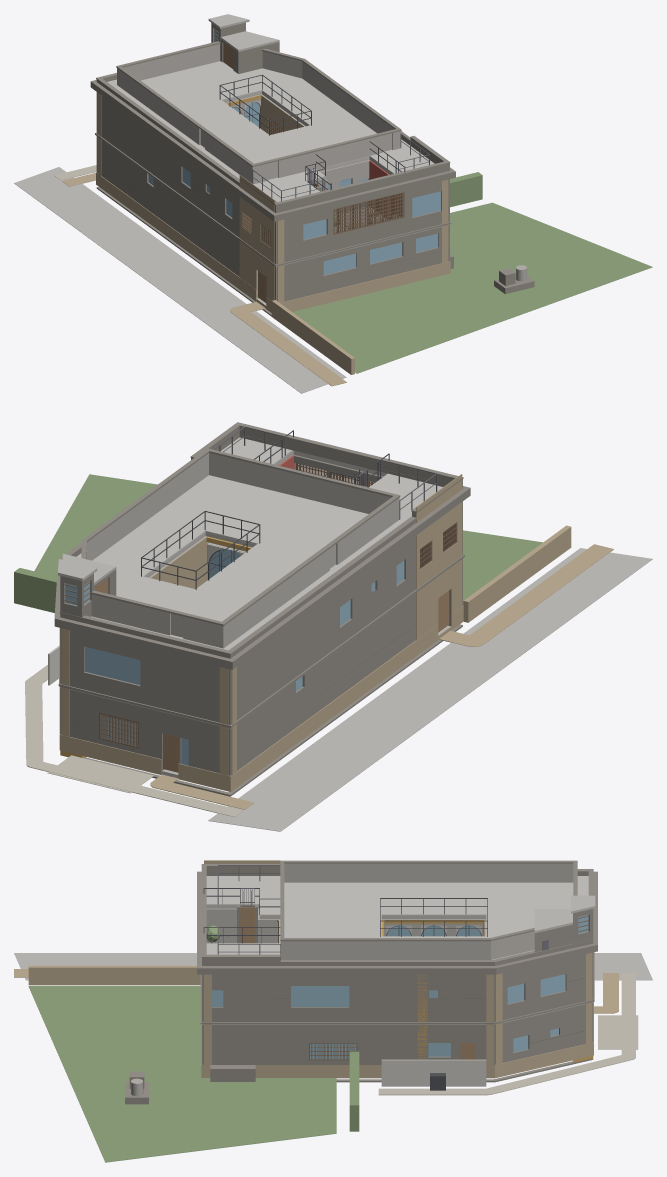
The model's file is taif_house_V8.2.glb.
3 views of the same model, one above another, from view 1: azimuth 30°, elevation 25°; view 2: azimuth 150°, elevation 25°; view 3: azimuth 270°, elevation 25° (orthographic). The views are drawn at different scales.
Visible parts, largest first — view 1: chr_site_foliage_garden, roof_finish_floor, chr_site_concrete_driveway, roof_attic_wall, gf_outer, ff_outer, chr_base_stone_plinth, roof_cornice, chr_base_stone_feature_wall_00, roof_attic_coping, chr_base_timber_court_screen, chr_site_stone_path_guest (+18 smaller); view 2: roof_finish_floor, chr_site_concrete_driveway, ff_outer, roof_attic_wall, gf_outer, chr_site_foliage_garden, chr_base_stone_plinth, roof_cornice, chr_base_stone_feature_wall_00, chr_site_stone_light_path_workers, roof_attic_coping, chr_base_stone_quoins (+20 smaller); view 3: chr_site_foliage_garden, roof_finish_floor, ff_outer, roof_attic_wall, gf_outer, roof_cornice, chr_site_concrete_driveway, chr_site_stone_garden_wall, chr_base_stone_plinth, chr_site_stone_light_path_workers, chr_base_stone_quoins, roof_attic_coping (+27 smaller).
Boxes of the visible parts, x1=… form: chr_site_foliage_garden: x1=292, y1=202, x2=652, y2=373; roof_finish_floor: x1=107, y1=61, x2=434, y2=201; chr_site_concrete_driveway: x1=14, y1=167, x2=346, y2=393; roof_attic_wall: x1=117, y1=44, x2=400, y2=184; gf_outer: x1=96, y1=136, x2=449, y2=301; ff_outer: x1=96, y1=92, x2=449, y2=264; chr_base_stone_plinth: x1=96, y1=172, x2=450, y2=312; roof_cornice: x1=90, y1=80, x2=455, y2=221; chr_base_stone_feature_wall_00: x1=239, y1=175, x2=274, y2=308; roof_attic_coping: x1=116, y1=41, x2=401, y2=166; chr_base_timber_court_screen: x1=333, y1=192, x2=404, y2=234; chr_site_stone_path_guest: x1=230, y1=302, x2=346, y2=386; roof_finish_floor: x1=76, y1=437, x2=442, y2=650; chr_site_concrete_driveway: x1=208, y1=548, x2=652, y2=831; ff_outer: x1=60, y1=455, x2=462, y2=725; roof_attic_wall: x1=86, y1=453, x2=399, y2=648; gf_outer: x1=60, y1=559, x2=462, y2=775; chr_site_foliage_garden: x1=34, y1=474, x2=542, y2=605; chr_base_stone_plinth: x1=59, y1=606, x2=463, y2=791; roof_cornice: x1=54, y1=486, x2=470, y2=669; chr_base_stone_feature_wall_00: x1=416, y1=474, x2=462, y2=639; chr_site_stone_light_path_workers: x1=25, y1=665, x2=242, y2=817; roof_attic_coping: x1=81, y1=448, x2=400, y2=626; chr_base_stone_quoins: x1=59, y1=502, x2=462, y2=775; chr_site_foliage_garden: x1=28, y1=986, x2=336, y2=1162; roof_finish_floor: x1=206, y1=876, x2=588, y2=959; ff_outer: x1=202, y1=952, x2=593, y2=1021; roof_attic_wall: x1=280, y1=863, x2=573, y2=959; gf_outer: x1=202, y1=1002, x2=593, y2=1064; roof_cornice: x1=197, y1=871, x2=597, y2=974; chr_site_concrete_driveway: x1=14, y1=953, x2=652, y2=980; chr_site_stone_garden_wall: x1=28, y1=965, x2=200, y2=985; chr_base_stone_plinth: x1=201, y1=1002, x2=593, y2=1078; chr_site_stone_light_path_workers: x1=378, y1=973, x2=635, y2=1095; chr_base_stone_quoins: x1=201, y1=952, x2=593, y2=1064; roof_attic_coping: x1=280, y1=860, x2=577, y2=941.
Bounding box in the file's own units: 30.69 × 10.6 × 39.6.
